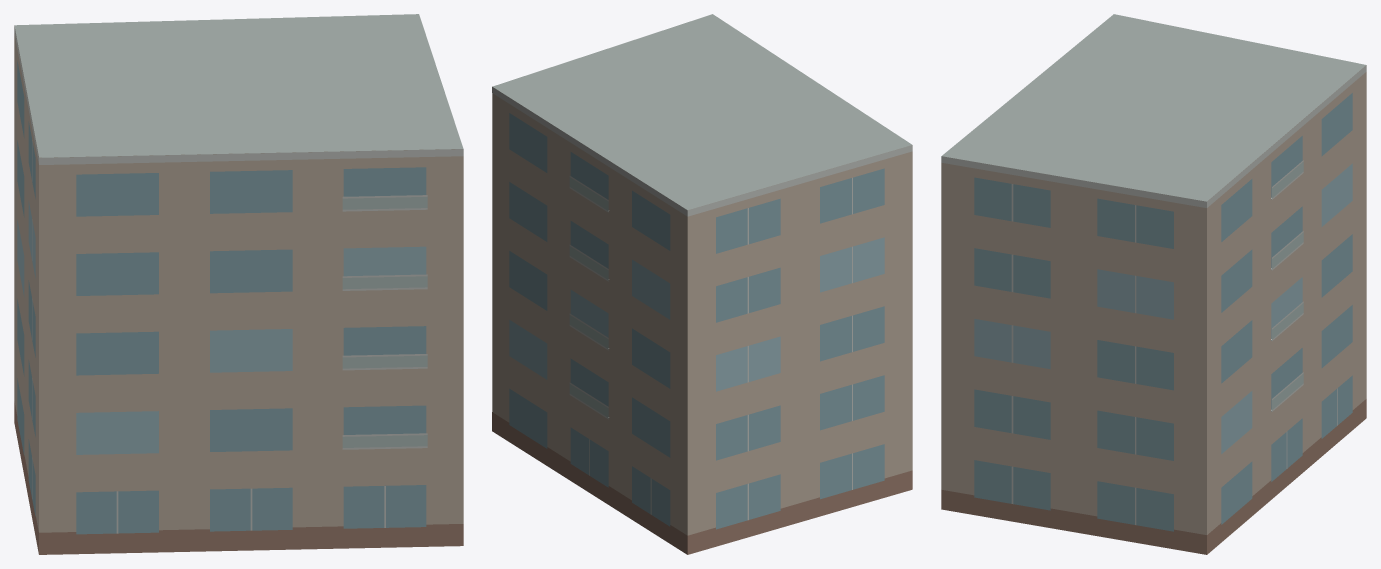
Rendered from survey-upis-32489784.glb.
3 views of the same model, side by side, from view 1: azimuth 30°, elevation 25°; view 2: azimuth 150°, elevation 25°; view 3: azimuth 270°, elevation 25° (orthographic). The views are drawn at different scales.
Visible parts, largest first — view 1: survey-upis-32489784.tmp; view 2: survey-upis-32489784.tmp; view 3: survey-upis-32489784.tmp.
Part boxes in pixels (<box>): survey-upis-32489784.tmp: <box>14,14,463,554</box>; survey-upis-32489784.tmp: <box>492,14,912,554</box>; survey-upis-32489784.tmp: <box>941,14,1366,554</box>.
Bounding box in the file's own units: 14.99 × 13.15 × 14.36.
